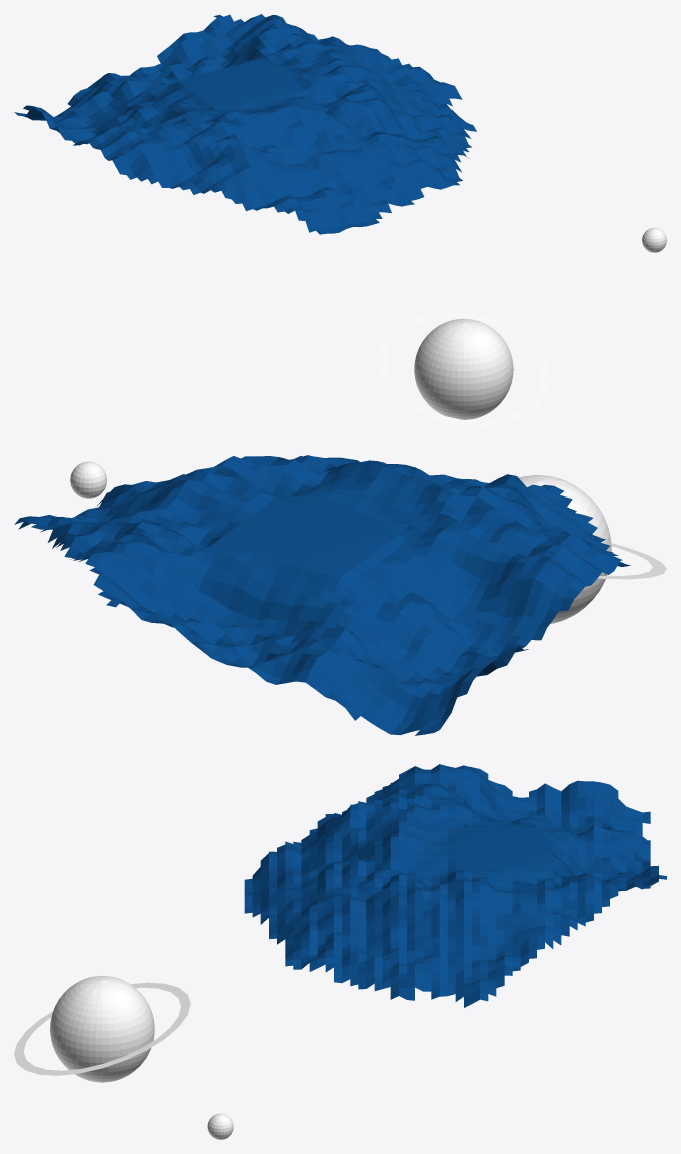
File: comet-2.glb
3 views of the same model, one above another, from view 1: azimuth 30°, elevation 25°; view 2: azimuth 150°, elevation 25°; view 3: azimuth 270°, elevation 25° (orthographic). The views are drawn at different scales.
Parts seen in each view (by area): view 1: comet, planet, ring; view 2: comet, planet, star, ring; view 3: comet, planet, ring, star.
Part boxes in pixels (box(x1,y1,x2,y2)): comet: box(14, 14, 476, 234); planet: box(414, 318, 513, 419); ring: box(377, 311, 550, 426); comet: box(14, 455, 630, 735); planet: box(519, 475, 611, 623); star: box(70, 461, 106, 498); ring: box(598, 543, 666, 579); comet: box(244, 764, 666, 1007); planet: box(50, 976, 154, 1082); ring: box(14, 982, 190, 1075); star: box(207, 1113, 233, 1139).
Bounding box in the file's own units: 1.08 × 0.4856 × 1.26.
Materials: 2 (1 with a texture image).
